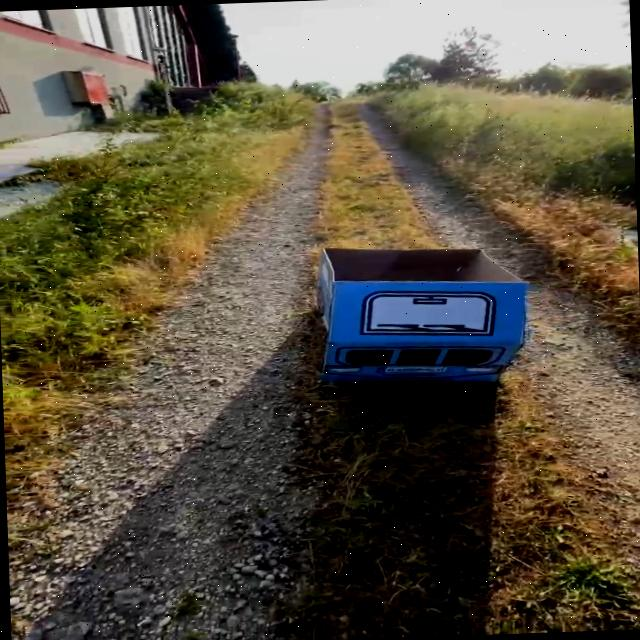blue_car: (249, 207, 601, 421)
